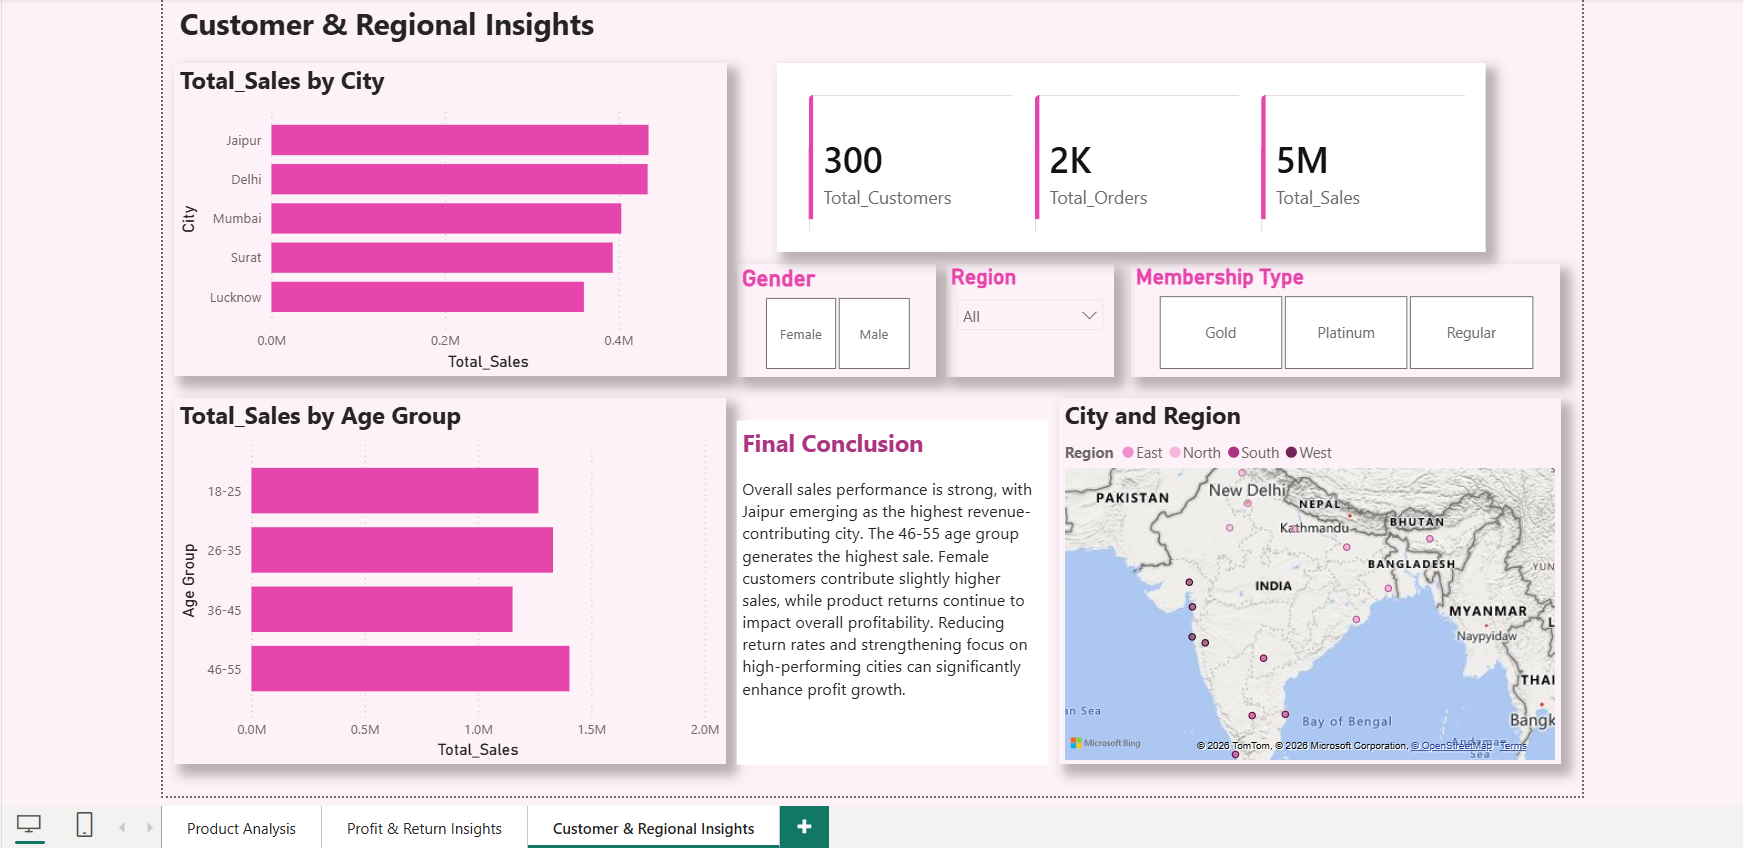

This screenshot's page, from the dashboard's own definition file:
{"tool":"powerbi","page":{"name":"Customer & Regional Insights","canvas":[1280,720],"ordinal":2},"visuals":[{"type":"textbox","box":[9.6,0,384.2,59],"z":0},{"type":"clusteredBarChart","fields":{"Y":["_Measure_Table.Total_Sales"],"Category":["Nykaa_Customers_2017_2022.City"]},"box":[9.6,59,498.1,282.7],"z":1000},{"type":"cardVisual","fields":{"Data":["_Measure_Table.Total_Customers","_Measure_Table.Total_Orders","_Measure_Table.Total_Sales"]},"box":[553,59,639.5,170.2],"z":2000},{"type":"slicer","title":"Gender","fields":{"Values":["Nykaa_Customers_2017_2022.Gender"]},"box":[517.3,240.1,179.8,101.5],"z":3000},{"type":"slicer","title":"Membership Type","fields":{"Values":["Nykaa_Customers_2017_2022.MembershipType"]},"box":[872.7,240.1,387,101.5],"z":4000},{"type":"slicer","title":"Region","fields":{"Values":["Nykaa_Customers_2017_2022.Region"]},"box":[705.3,240.1,152.3,101.5],"z":5000},{"type":"clusteredBarChart","fields":{"Y":["_Measure_Table.Total_Sales"],"Category":["Nykaa_Customers_2017_2022.Age Group"]},"box":[10,360.6,497.5,330.7],"z":7000},{"type":"map","fields":{"Category":["Nykaa_Customers_2017_2022.City"],"Series":["Nykaa_Customers_2017_2022.Region"]},"box":[808.2,360.6,451.8,330.7],"z":8000},{"type":"textbox","box":[517.4,380.6,280.8,310.7],"z":9000}]}

Visuals, with their boxes on the page's 1280x720 design canvas (x1, y1, x2, y2). These are canvas units, not pixel positions in the 1743x848 screenshot, which may show the page scaled, cropped or inside an application window:
textbox: 10 0 394 59
clusteredBarChart - _Measure_Table.Total_Sales x Nykaa_Customers_2017_2022.City: 10 59 508 342
cardVisual - _Measure_Table.Total_Customers x _Measure_Table.Total_Orders: 553 59 1192 229
"Gender" slicer: 517 240 697 342
"Membership Type" slicer: 873 240 1260 342
"Region" slicer: 705 240 858 342
clusteredBarChart - _Measure_Table.Total_Sales x Nykaa_Customers_2017_2022.Age Group: 10 361 508 691
map - Nykaa_Customers_2017_2022.City x Nykaa_Customers_2017_2022.Region: 808 361 1260 691
textbox: 517 381 798 691
